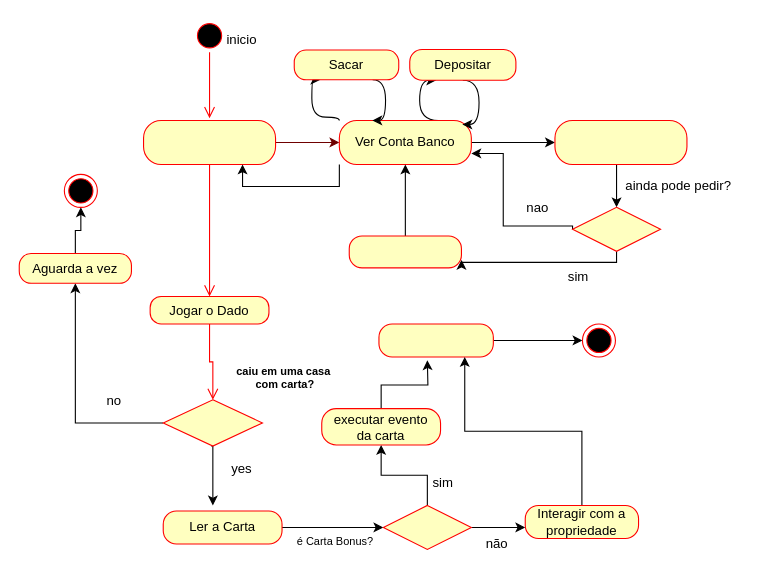
Image size: 760x578. Some labels were removed from this diagram. Here are the shapes that lost their labels. From the top down, the box of each, then its label:
(142, 119, 276, 164): vez do jogador
(554, 119, 687, 164): Pedir emprestimo
(348, 235, 461, 268): emprestimo feito
(378, 323, 493, 357): facabar jogada
